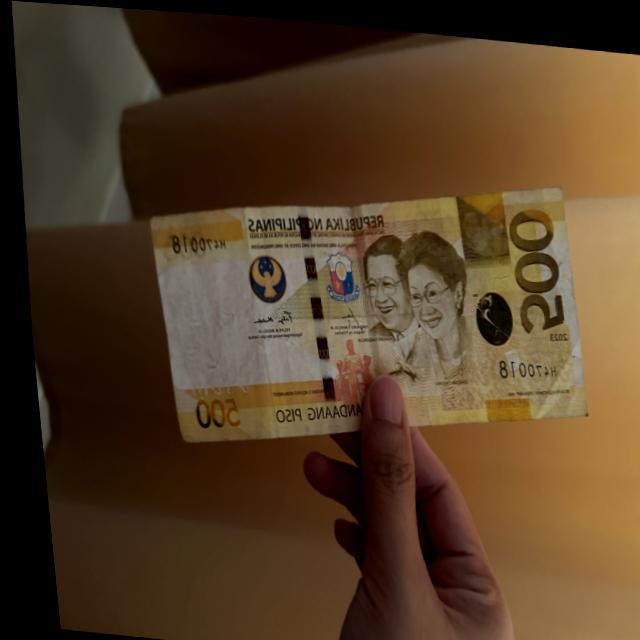concealed_value: (453, 186, 506, 249)
optically_variable_device: (468, 283, 508, 338)
see_through_mark: (175, 369, 247, 401)
watermark: (152, 241, 246, 390)
